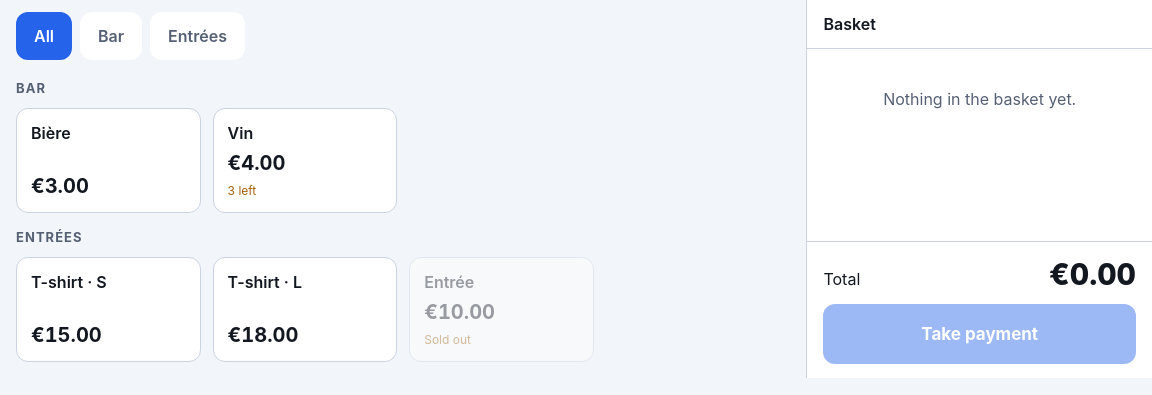
Test case: the categories › narrows to one category when its tab is tapped
Click the tab "Bar": (111, 36) [80,12,142,60]
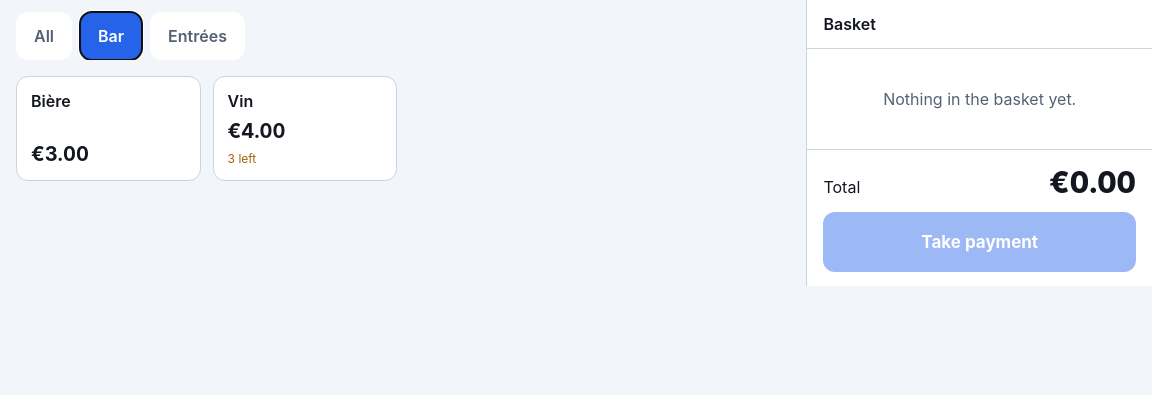
Expected: the button "Bière €3.00" is shown, [16,76,201,181]
Now the button "T-shirt · S" is gone
